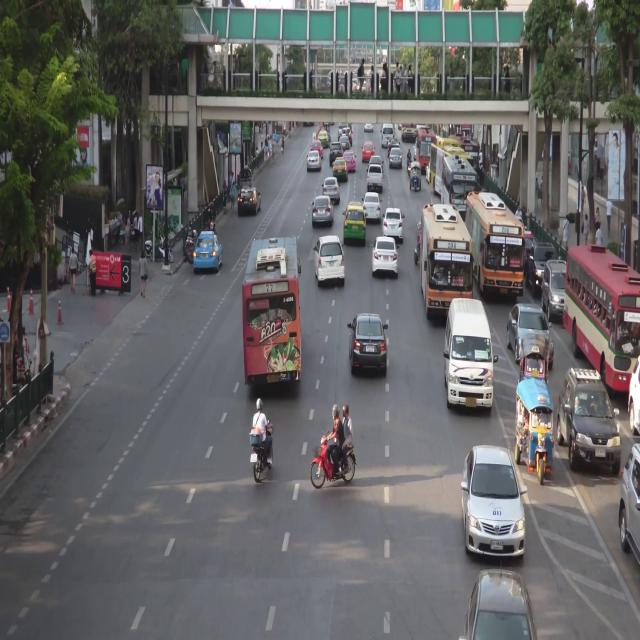bus: (565, 245, 640, 388), (244, 242, 303, 393), (420, 206, 475, 319), (466, 193, 522, 298), (430, 140, 470, 203), (443, 156, 477, 218), (448, 133, 480, 194), (416, 128, 436, 173), (402, 123, 417, 140)
car: (557, 366, 621, 478), (463, 449, 525, 559), (466, 571, 540, 640), (447, 300, 492, 411), (516, 382, 553, 477), (508, 304, 554, 370), (620, 442, 640, 565), (349, 316, 387, 377), (519, 339, 548, 412), (543, 260, 573, 319), (315, 234, 345, 286), (527, 241, 558, 289), (370, 236, 398, 276), (630, 358, 640, 437), (312, 194, 334, 226), (384, 210, 404, 242), (239, 186, 262, 213), (363, 191, 380, 220), (322, 177, 340, 202), (367, 167, 383, 191), (381, 123, 395, 147), (410, 163, 421, 190), (330, 143, 344, 163), (390, 148, 403, 167), (369, 153, 382, 172), (337, 138, 351, 154), (308, 153, 320, 171), (342, 127, 353, 145), (388, 138, 399, 154), (338, 122, 349, 138), (364, 123, 374, 133)
pedestrian: (138, 251, 149, 300), (68, 247, 78, 295), (87, 249, 97, 297), (606, 197, 612, 237), (562, 214, 569, 248), (582, 214, 589, 244), (133, 213, 139, 245), (126, 214, 131, 248), (595, 204, 601, 232), (595, 225, 602, 248), (230, 182, 236, 207), (139, 211, 143, 244), (180, 176, 185, 202), (229, 170, 235, 190), (581, 185, 585, 215), (535, 175, 539, 201), (223, 179, 227, 204), (541, 173, 544, 201), (268, 134, 272, 154), (265, 136, 268, 157), (272, 143, 275, 164), (281, 135, 284, 154), (260, 132, 263, 149), (256, 147, 258, 156)
taxi: (194, 232, 225, 271), (343, 200, 367, 249), (519, 229, 535, 276), (332, 158, 347, 182), (362, 140, 376, 162), (343, 151, 356, 173), (311, 140, 323, 158), (318, 129, 328, 148)
